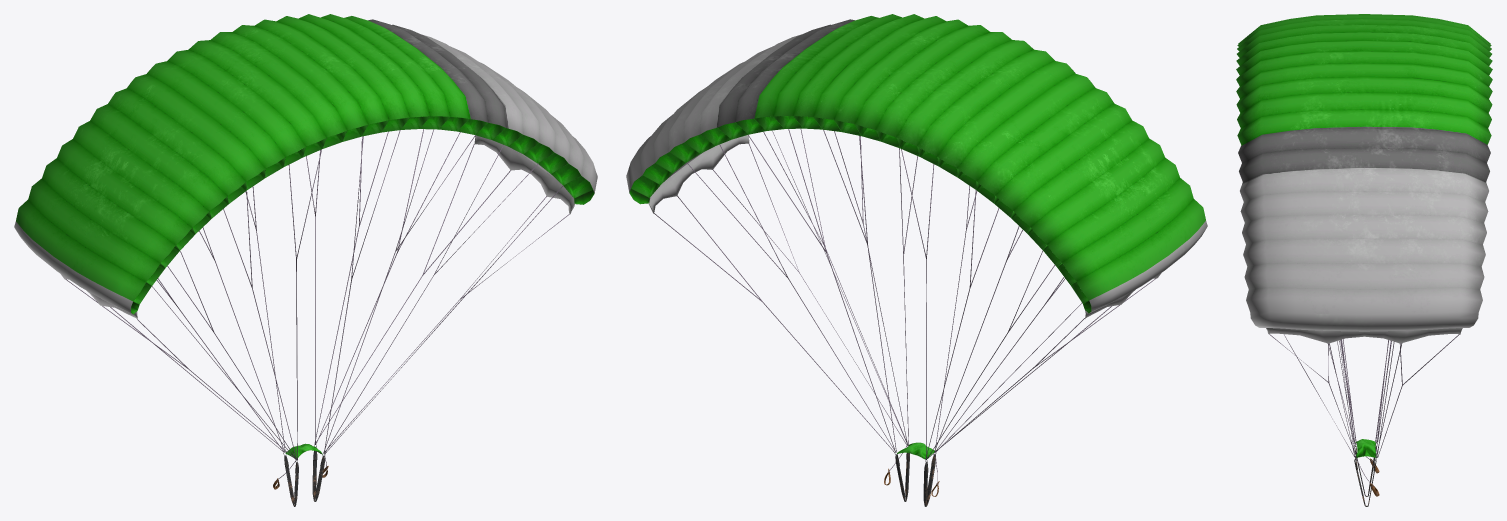
3 renders of one model, left to right at view 1: azimuth 30°, elevation 25°; view 2: azimuth 150°, elevation 25°; view 3: azimuth 270°, elevation 25°, orthographic.
Visible parts, largest first — view 1: Parachute_skinned.mo; view 2: Parachute_skinned.mo; view 3: Parachute_skinned.mo.
Part boxes in pixels (x1=…): Parachute_skinned.mo: x1=14, y1=14, x2=597, y2=506; Parachute_skinned.mo: x1=626, y1=14, x2=1207, y2=506; Parachute_skinned.mo: x1=1236, y1=14, x2=1492, y2=506.
Size of the model in its own units: 27.26 by 23.24 by 11.91.
1 material, 1 textured.
